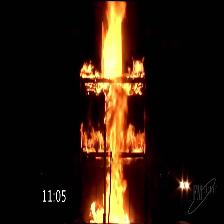fire: (95, 1, 131, 221)
